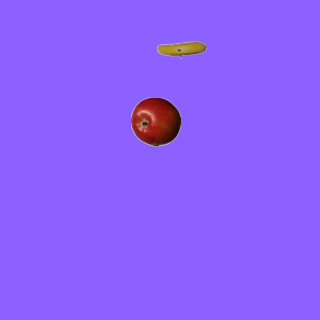Apple Braeburn: (130, 96, 180, 146)
Banana: (156, 24, 206, 74)
